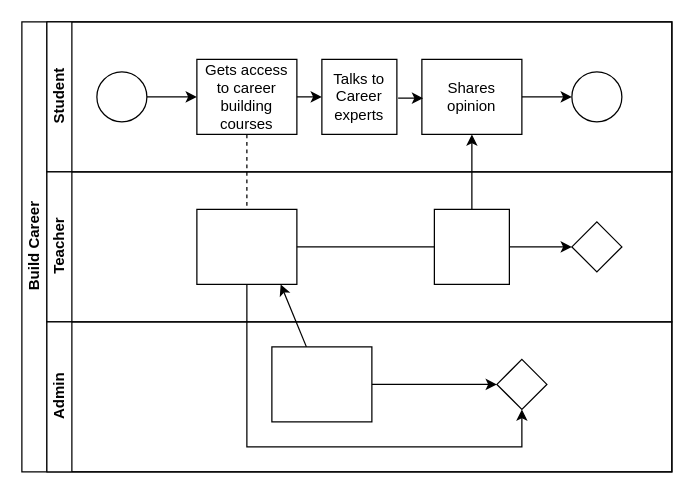
Image size: 694x494. Some labels were removed from this diagram. The shapes that lost their labels are listed below. From the top down, each one's centre as x and y in pixels, then its label:
At point (246, 246): "Uploads his courses".
At point (471, 246): "Replies to opinions".
At point (321, 384): "Approves courses".
